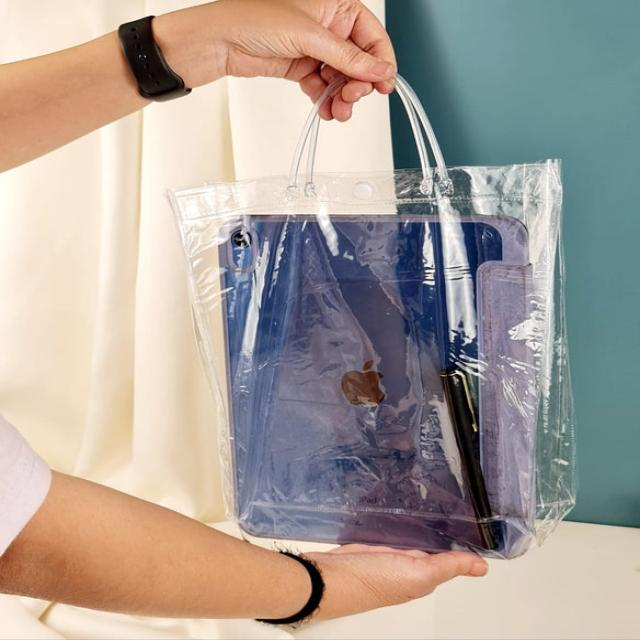mobile_phone: (226, 217, 504, 536)
plastic_bag: (157, 152, 614, 555)
